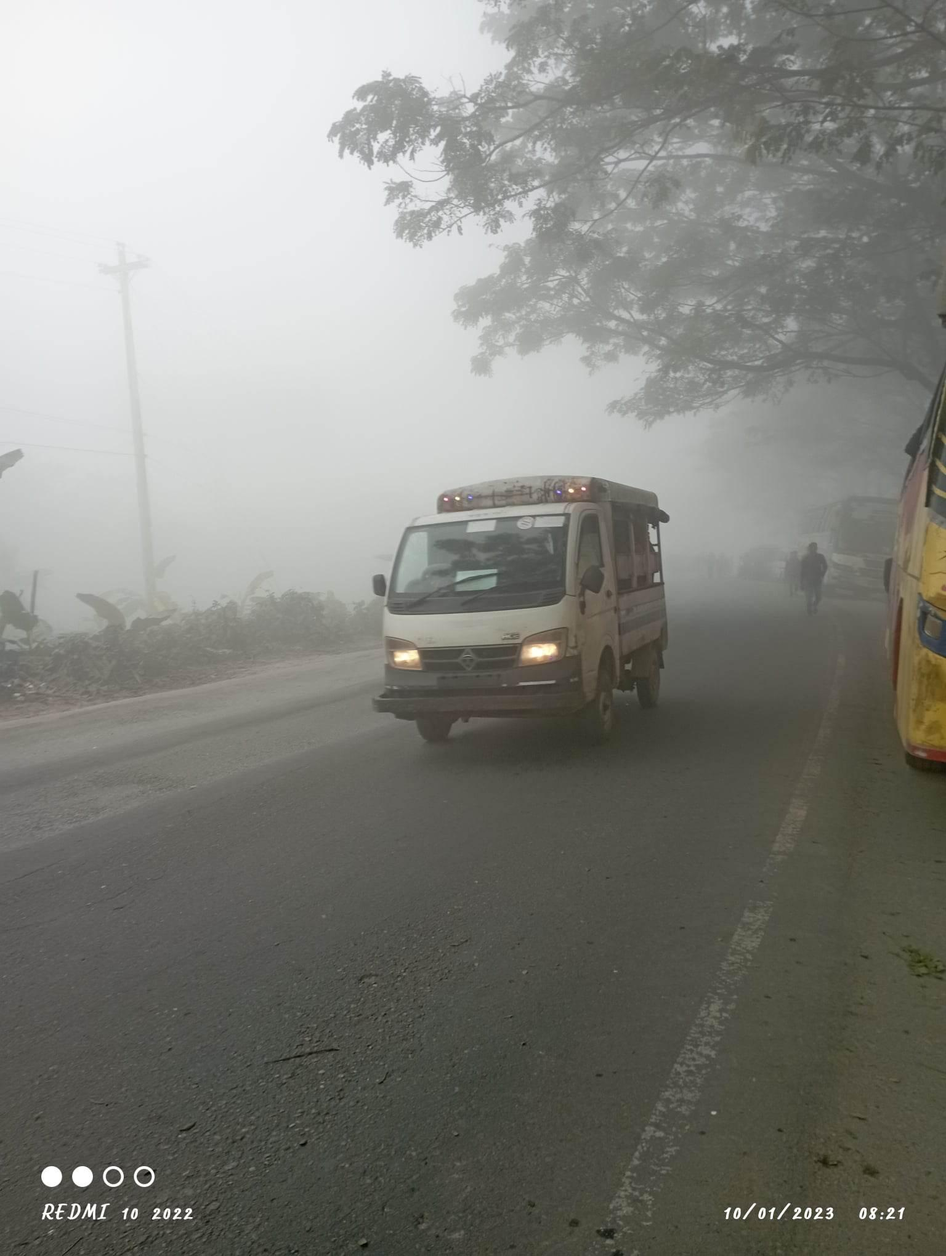Bus: (780, 476, 906, 610)
Car: (352, 459, 693, 752)
